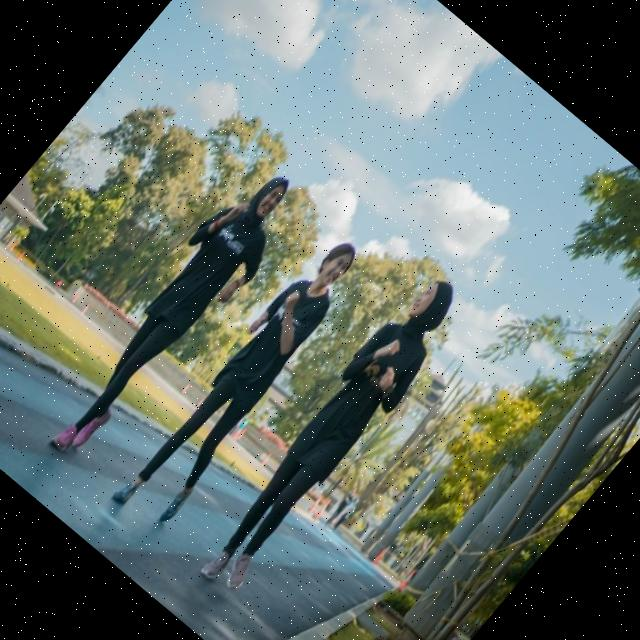Person: (182, 266, 478, 602), (27, 154, 316, 478), (108, 228, 380, 535)
